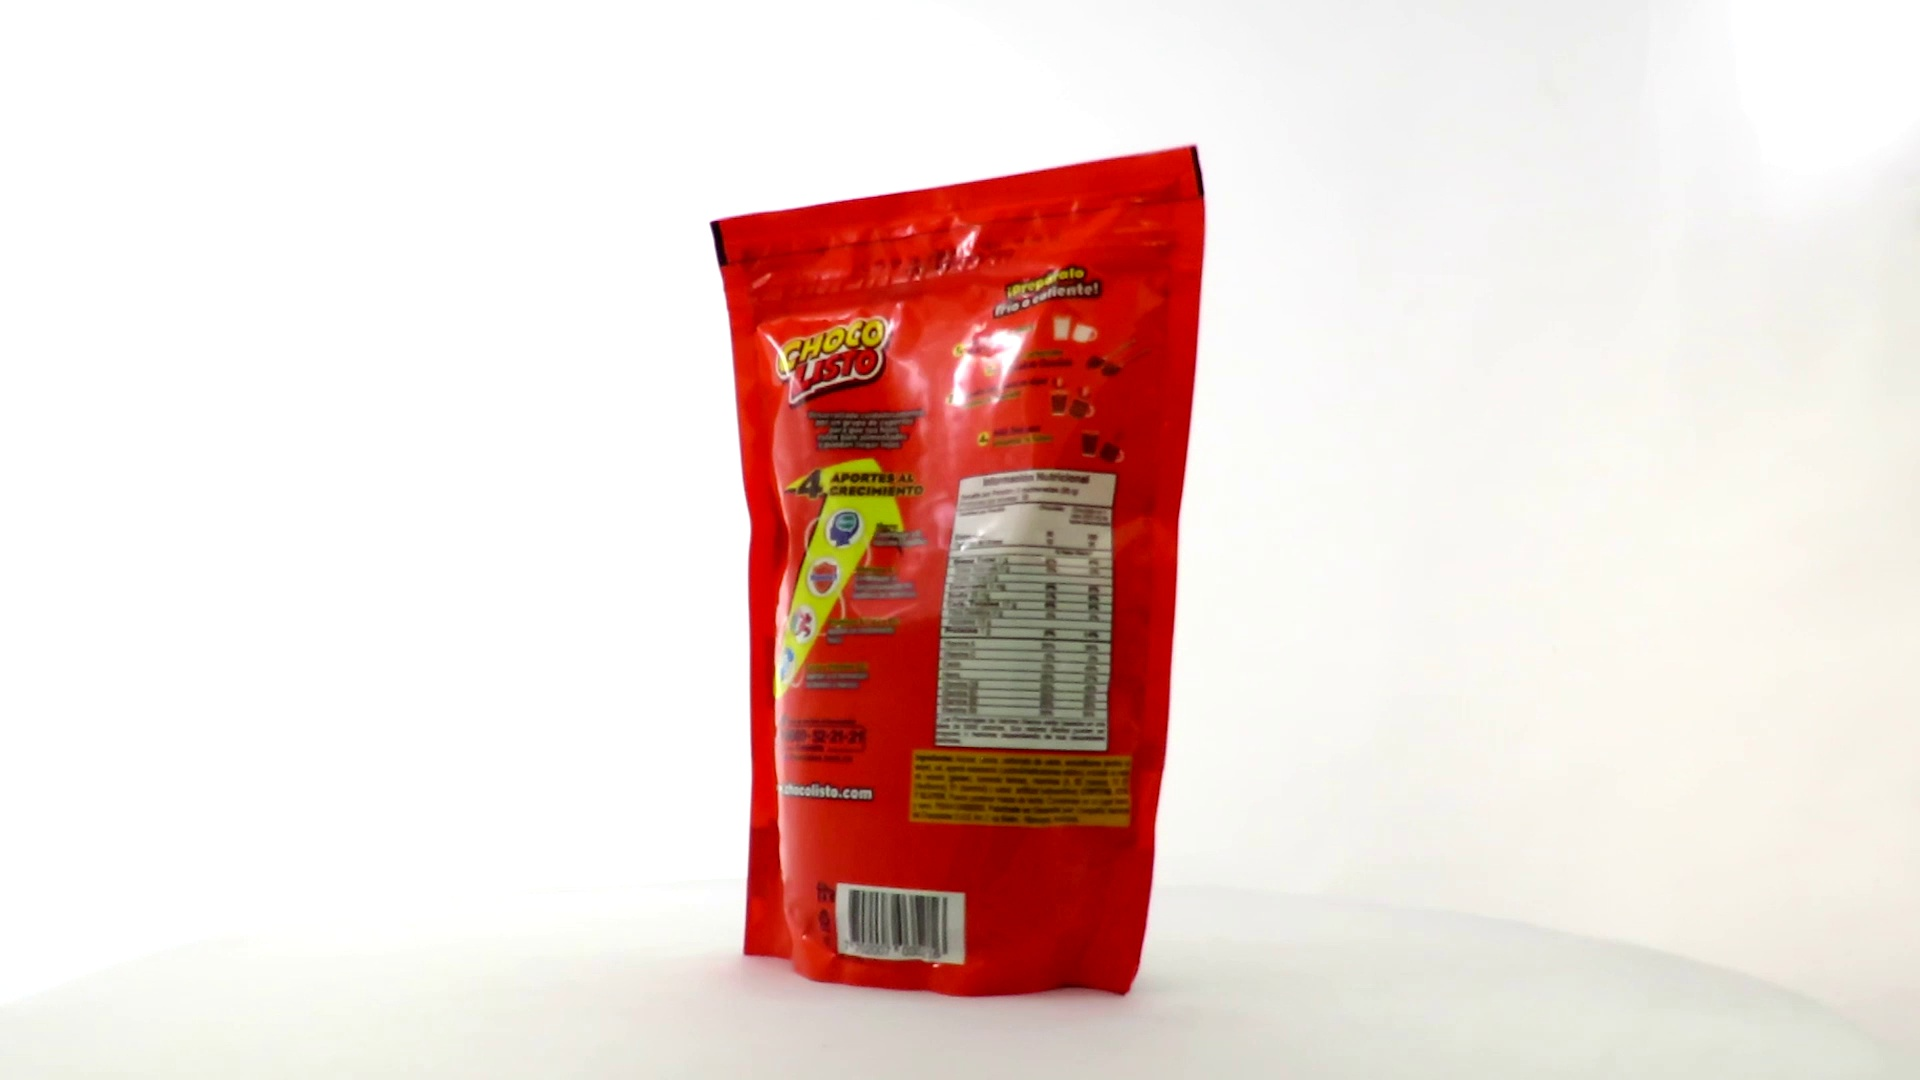COL0170103DYP36000: (705, 141, 1211, 1004)
